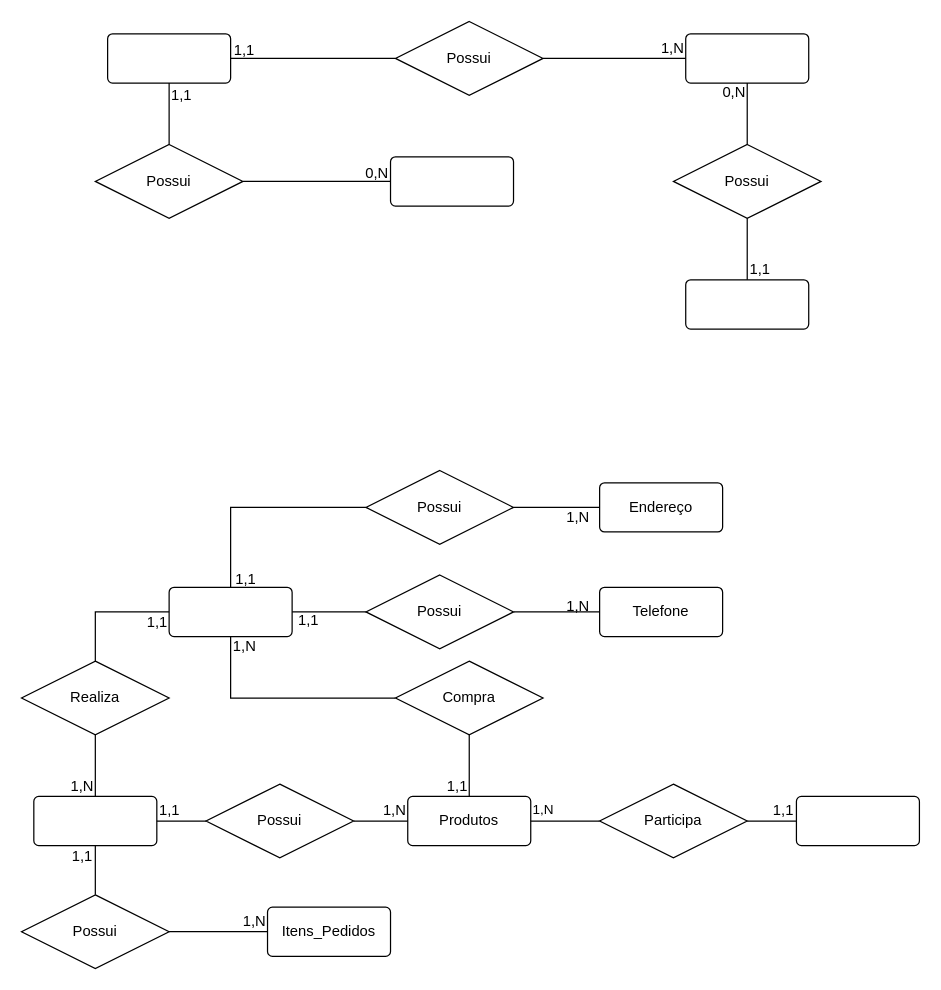
This 941x990 diagram has some shape labels left out. The shapes that lost their labels are listed below. From the top down, each one's box as (x1, y1, x2, y2) in pixels, then its label:
(106, 33, 231, 83): Aluno
(684, 33, 809, 83): Matrículas
(389, 156, 514, 206): Fiaps
(684, 279, 809, 329): Cursos
(168, 586, 292, 637): Clientes
(33, 795, 157, 846): Pedidos
(795, 795, 919, 846): Categorias
